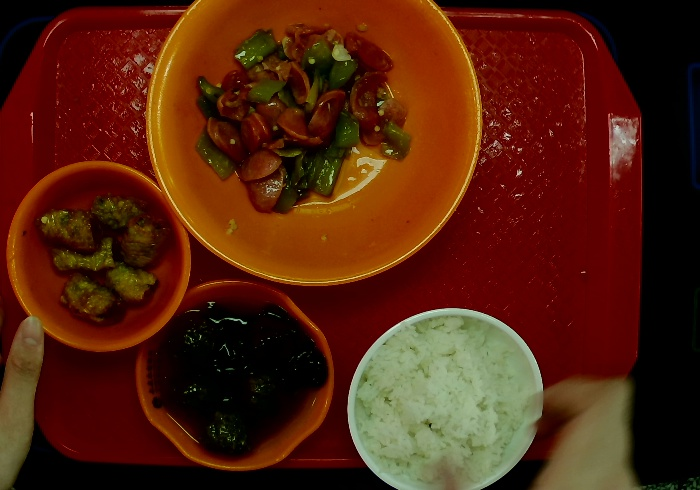YKMZ-Fan_Wan: (344, 303, 549, 487)
YKMZ-Ju_Se_Ao_Bian_Wan: (129, 272, 340, 475)
YKMZ-Ju_Se_Tang_Wan: (140, 1, 484, 295)
YKMZ-Ju_Se_Yuan_Wan: (1, 155, 198, 360)
